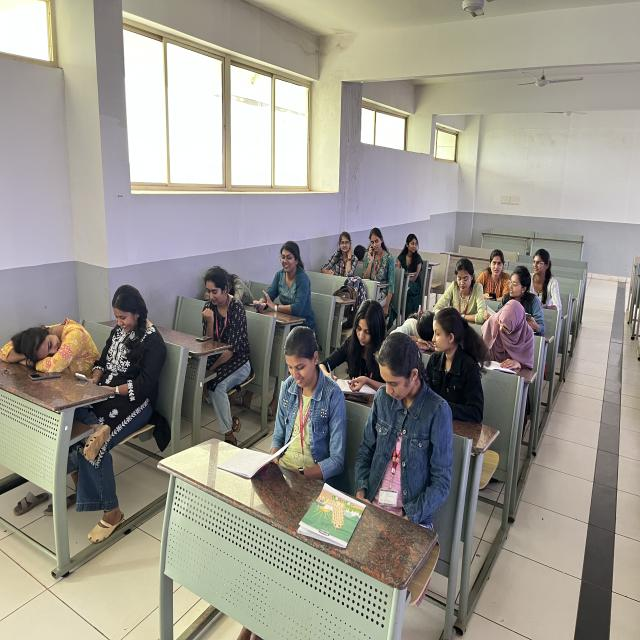Sleeping: (0, 301, 95, 379)
Using Phone: (70, 274, 163, 410), (265, 316, 346, 470), (197, 266, 254, 384), (248, 236, 316, 324), (362, 224, 400, 286), (476, 248, 513, 300)
Writing: (319, 297, 387, 393), (469, 292, 537, 374), (316, 227, 365, 278)
